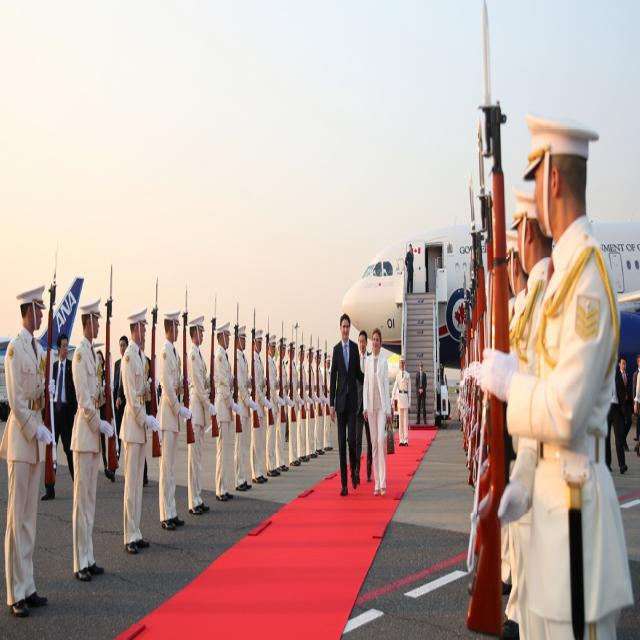body: (467, 103, 637, 639), (472, 180, 554, 639), (0, 281, 56, 619), (455, 229, 528, 457), (68, 294, 114, 583), (116, 304, 160, 556), (156, 308, 193, 533), (328, 310, 369, 498), (40, 331, 79, 504), (186, 313, 218, 518), (361, 326, 392, 497), (214, 320, 241, 504), (232, 323, 258, 493), (115, 378, 150, 488), (248, 327, 272, 486), (104, 335, 129, 482), (264, 333, 285, 479), (354, 328, 373, 484), (284, 340, 305, 468), (276, 334, 295, 472), (605, 368, 629, 474), (295, 341, 314, 463), (390, 353, 412, 448), (304, 344, 322, 458), (614, 351, 633, 452), (96, 349, 110, 475), (313, 348, 329, 456), (321, 353, 335, 452), (413, 359, 428, 427), (157, 377, 186, 405), (404, 243, 414, 295), (633, 369, 640, 417), (634, 354, 640, 394)
